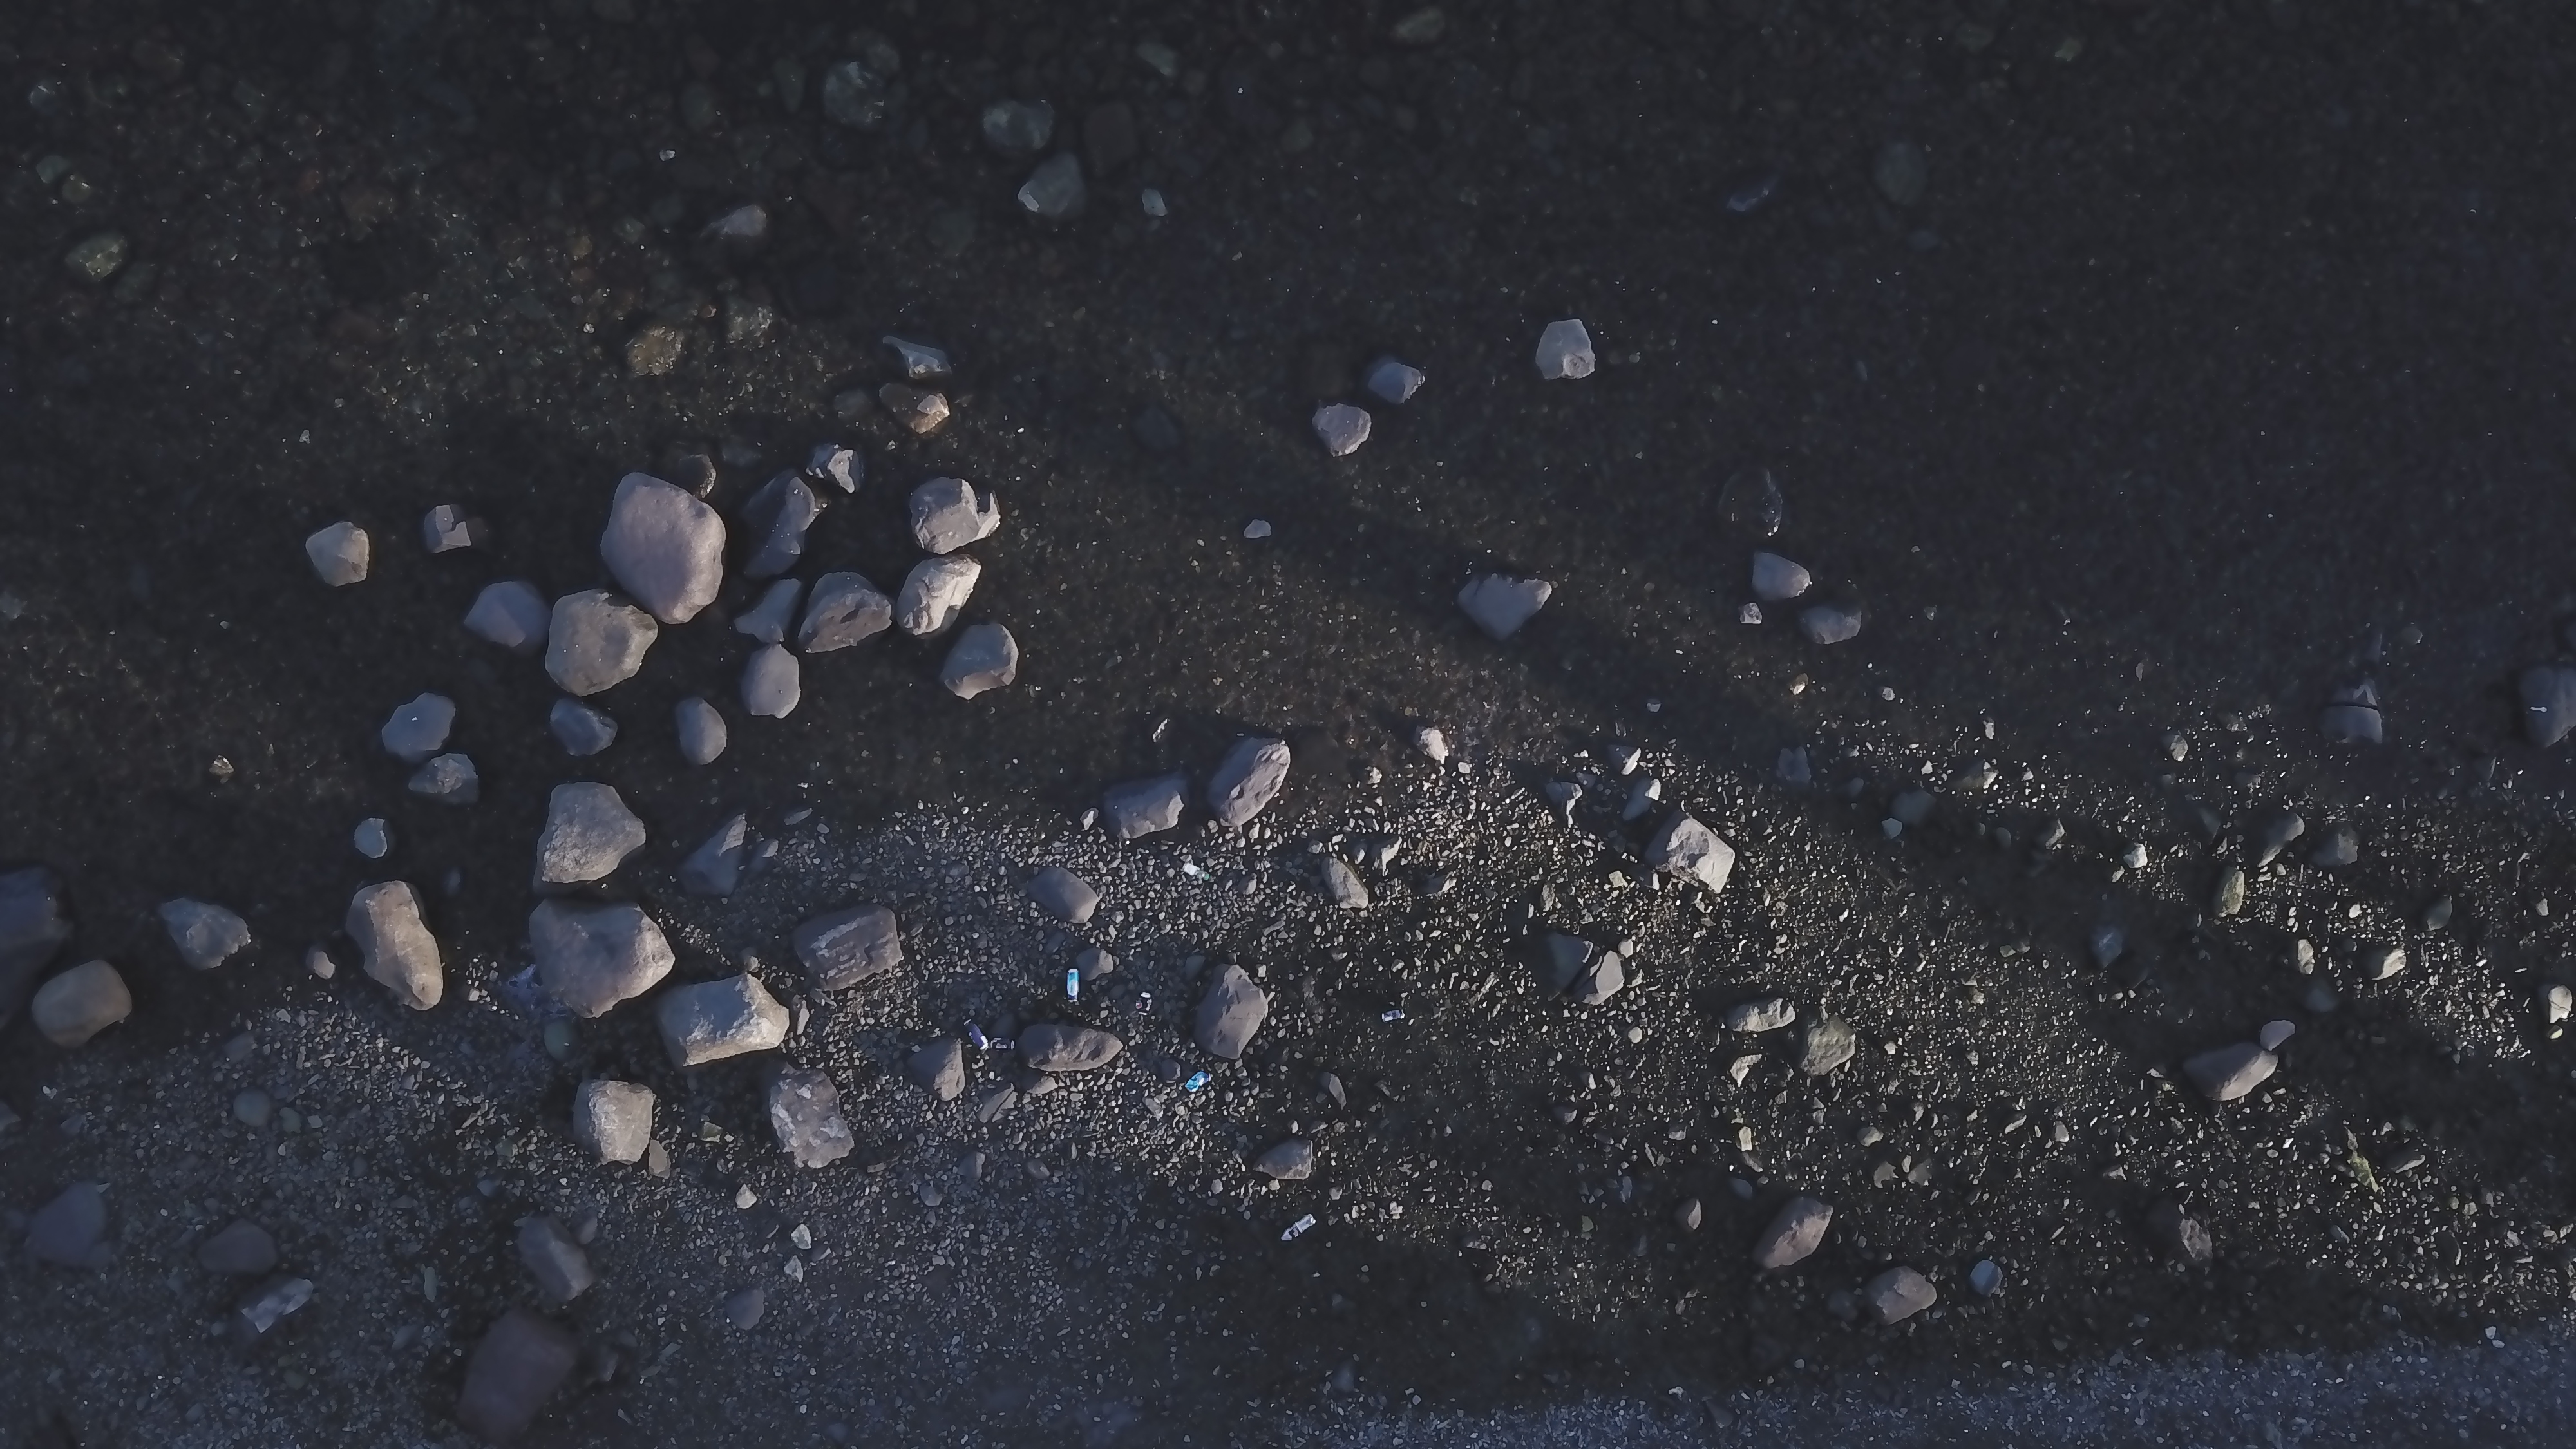Can: (959, 1019, 993, 1053), (1184, 1070, 1212, 1095), (1065, 968, 1083, 1007), (987, 1037, 1017, 1054), (1380, 1008, 1408, 1023)
PlasticBottle: (1279, 1215, 1316, 1246), (1178, 862, 1217, 883)
